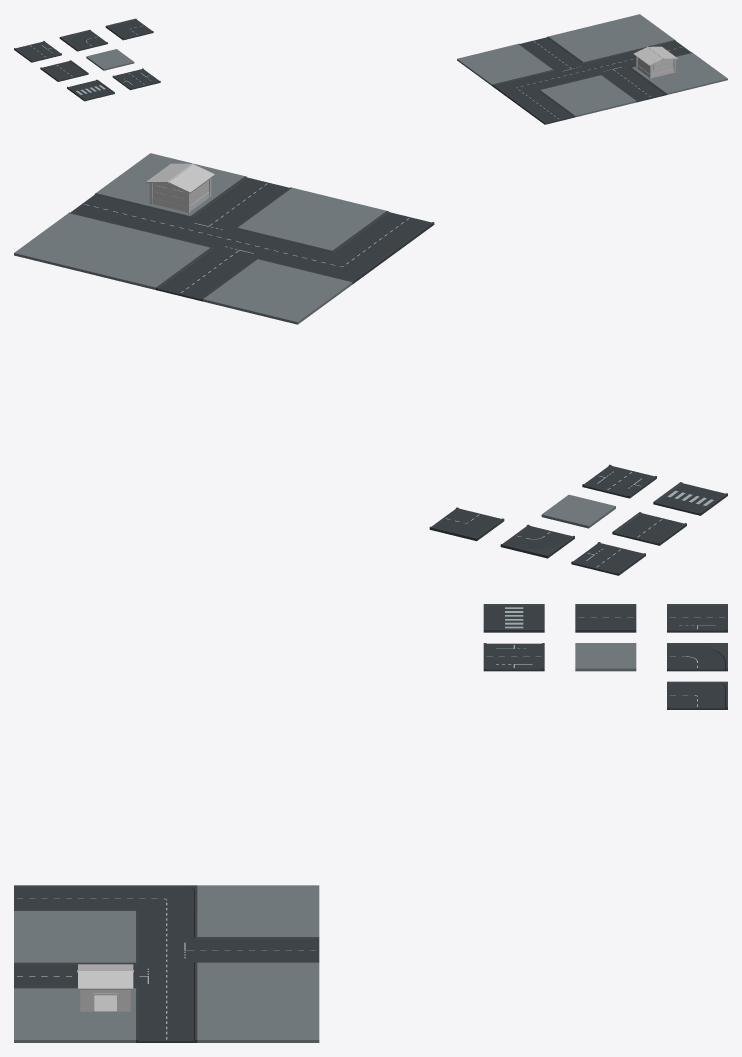
The picture shows the model from 3 angles, top to bottom: view 1: azimuth 30°, elevation 25°; view 2: azimuth 150°, elevation 25°; view 3: azimuth 270°, elevation 25°; orthographic projection. The views are drawn at different scales.
Visible parts, largest first — view 1: Cube.003, base_Cube.001, road_corner_Cube.001, road_corner_curved_Cube.001, road_straight_Cube.001, road_straight_crossing_Cube.001, road_junction_Cube.001, road_tsplit_Cube.001; view 2: Cube.003, base_Cube.001, road_straight_crossing_Cube.001, road_straight_Cube.001, road_corner_Cube.001, road_junction_Cube.001, road_corner_curved_Cube.001, road_tsplit_Cube.001; view 3: Cube.003, road_straight_Cube.001, road_straight_crossing_Cube.001, road_junction_Cube.001, base_Cube.001, road_tsplit_Cube.001, road_corner_curved_Cube.001, road_corner_Cube.001.
Part boxes in pixels (x1,y1,x2,y2): Cube.003: [457, 14, 727, 124]; base_Cube.001: [86, 49, 134, 70]; road_corner_Cube.001: [105, 18, 153, 40]; road_corner_curved_Cube.001: [59, 29, 107, 51]; road_straight_Cube.001: [40, 60, 88, 81]; road_straight_crossing_Cube.001: [67, 79, 114, 101]; road_junction_Cube.001: [112, 68, 160, 90]; road_tsplit_Cube.001: [14, 41, 61, 62]; Cube.003: [14, 153, 434, 324]; base_Cube.001: [541, 494, 615, 528]; road_straight_crossing_Cube.001: [653, 482, 727, 515]; road_straight_Cube.001: [612, 512, 686, 545]; road_corner_Cube.001: [429, 507, 504, 541]; road_junction_Cube.001: [582, 464, 656, 498]; road_corner_curved_Cube.001: [500, 524, 574, 558]; road_tsplit_Cube.001: [571, 542, 645, 575]; Cube.003: [14, 885, 319, 1042]; road_straight_Cube.001: [575, 604, 636, 632]; road_straight_crossing_Cube.001: [483, 604, 544, 632]; road_junction_Cube.001: [483, 643, 544, 671]; base_Cube.001: [575, 643, 636, 671]; road_tsplit_Cube.001: [667, 604, 727, 632]; road_corner_curved_Cube.001: [667, 643, 727, 671]; road_corner_Cube.001: [667, 681, 727, 709].
Size of the model in its own units: 33.3 by 1.22 by 23.38.
